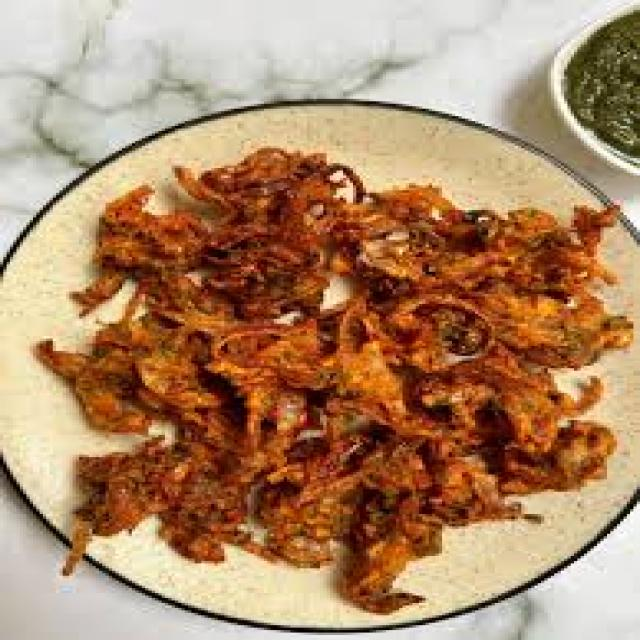BAJI: (43, 141, 637, 616)
